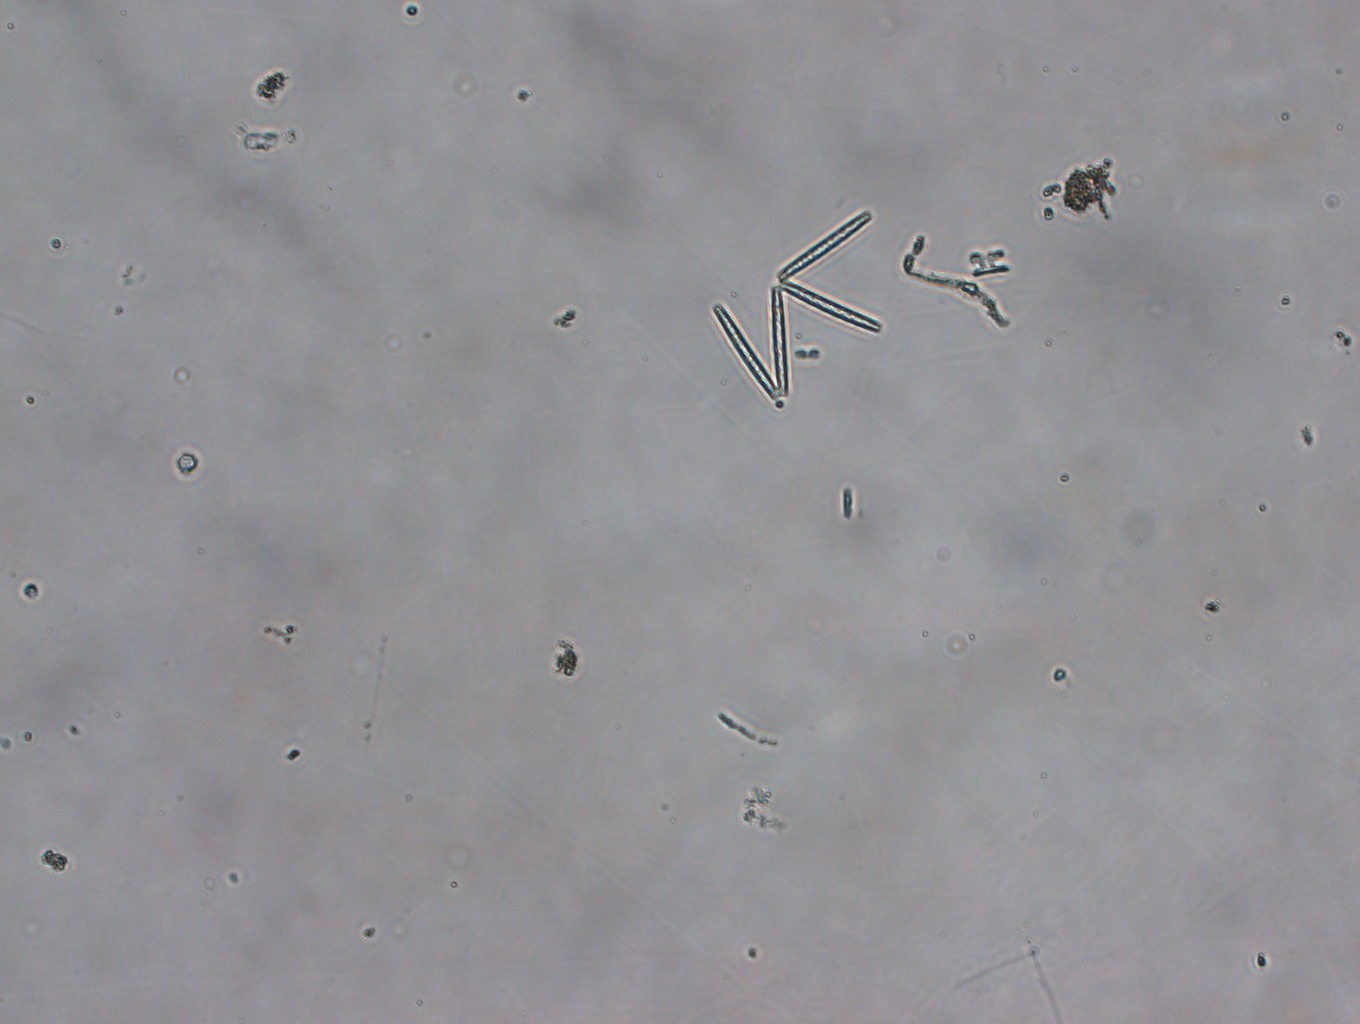thalassionema nitzschioides: (711, 207, 882, 403)
